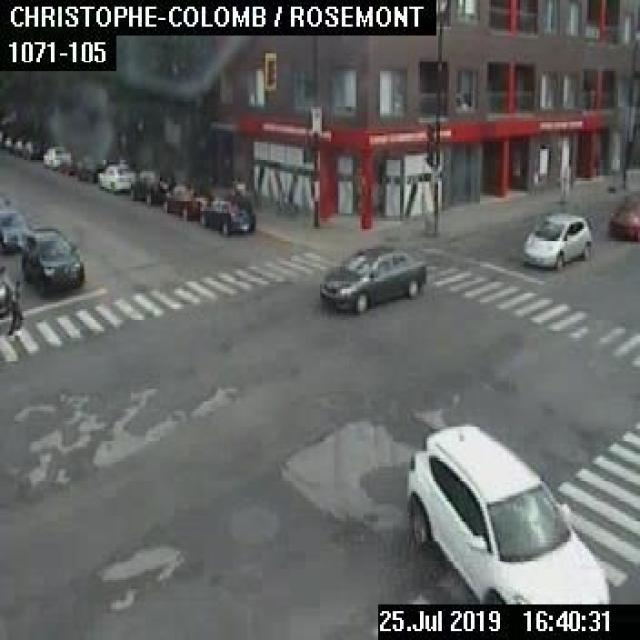vehicle: (404, 423, 609, 602), (318, 247, 426, 316), (20, 225, 83, 295), (520, 211, 590, 268), (198, 196, 254, 234), (162, 182, 210, 218), (129, 169, 174, 207), (606, 189, 638, 240), (0, 264, 22, 334), (97, 162, 134, 194), (0, 208, 25, 250), (76, 154, 104, 182), (41, 144, 70, 168), (23, 139, 41, 159), (12, 137, 24, 154), (2, 136, 12, 152)
